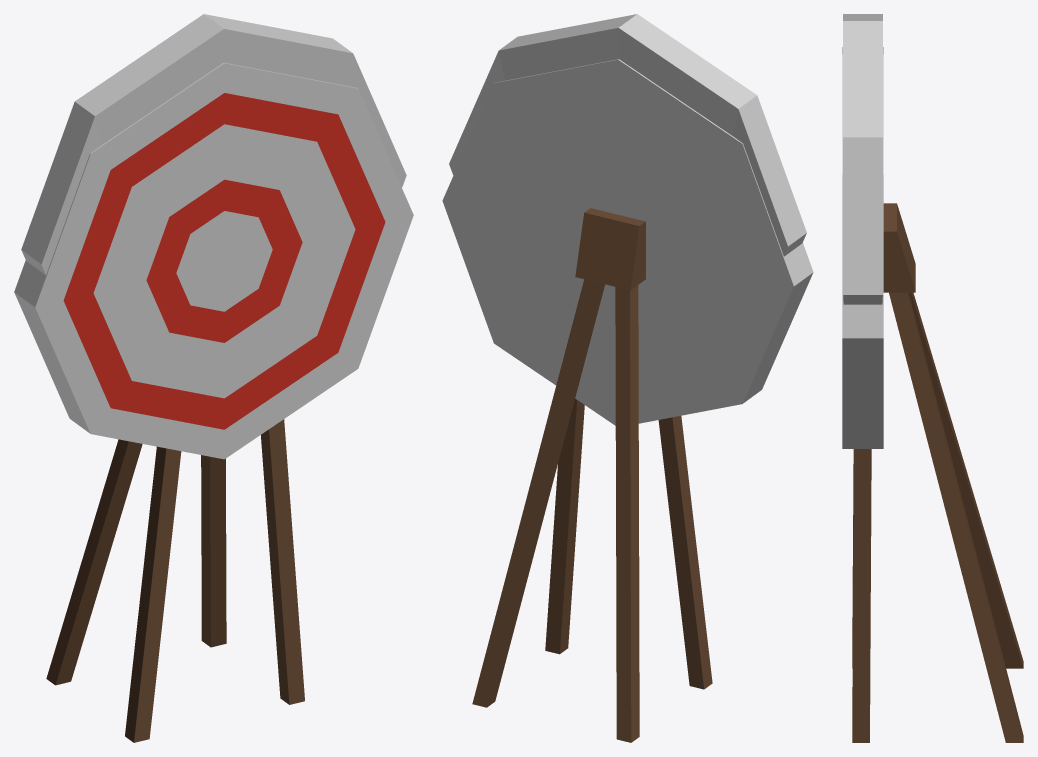
File: Target_snow_mat.fbx
3 views of the same model, side by side, from view 1: azimuth 30°, elevation 25°; view 2: azimuth 150°, elevation 25°; view 3: azimuth 270°, elevation 25° (orthographic). The views are drawn at different scales.
Visible parts, largest first — view 1: Target_snow_mat; view 2: Target_snow_mat; view 3: Target_snow_mat.
Part boxes in pixels (x1,y1,x2,y2): Target_snow_mat: [14, 14, 413, 742]; Target_snow_mat: [442, 14, 813, 742]; Target_snow_mat: [842, 14, 1023, 742].
Bounding box in the file's own units: 46.37 × 81.53 × 19.65.
